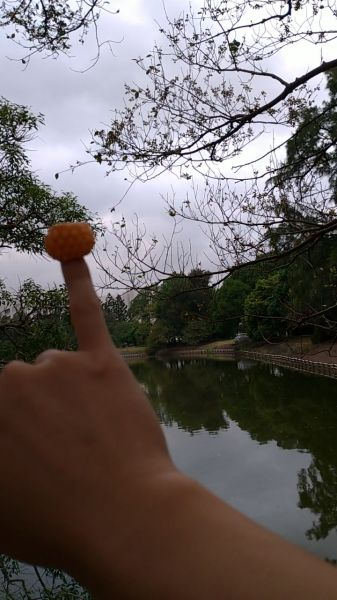eggs: (45, 219, 97, 261)
